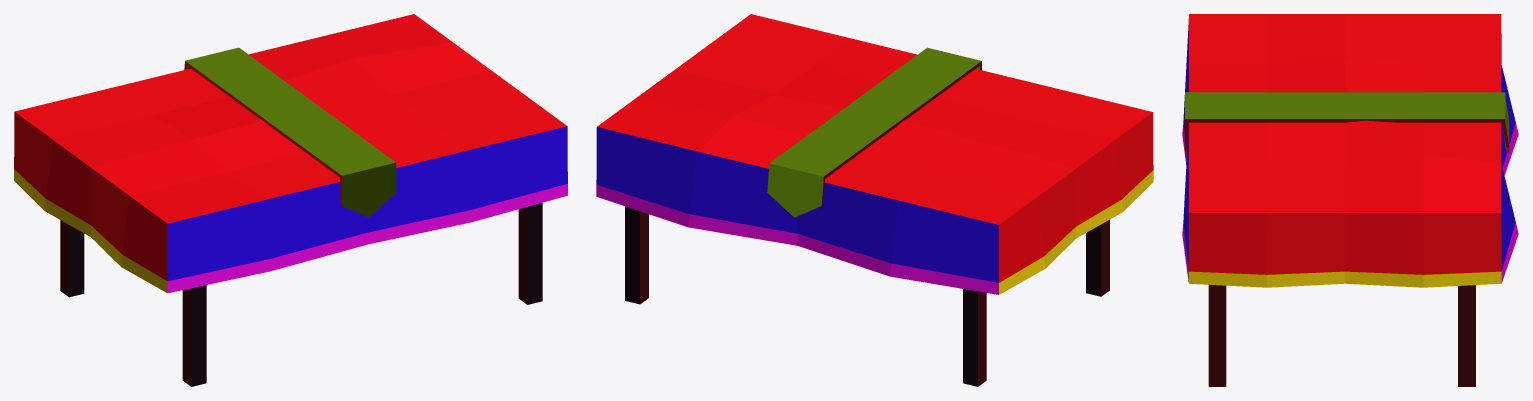
The model's file is table.fbx.
3 renders of one model, left to right at view 1: azimuth 30°, elevation 25°; view 2: azimuth 150°, elevation 25°; view 3: azimuth 270°, elevation 25°, orthographic.
Visible parts, largest first — view 1: Table, arm 4, arm 1, arm 3; view 2: Table, arm 3, arm 2, arm 4; view 3: Table, arm 1, arm 2.
Part boxes in pixels (x1,y1,x2,y2): Table: (14, 14, 567, 293); arm 4: (182, 285, 206, 386); arm 1: (518, 202, 542, 304); arm 3: (60, 220, 84, 297); Table: (596, 14, 1153, 294); arm 3: (963, 289, 986, 386); arm 2: (625, 206, 648, 304); arm 4: (1086, 219, 1109, 296); Table: (1182, 14, 1518, 287); arm 1: (1208, 284, 1226, 386); arm 2: (1458, 285, 1475, 386).
Bounding box in the file's own units: 2425 × 1036 × 1666.
